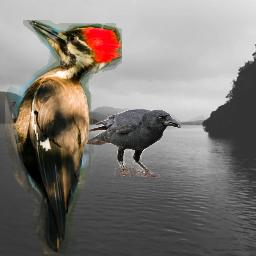Crow: (83, 109, 181, 177)
Woodpecker: (2, 20, 122, 254)
